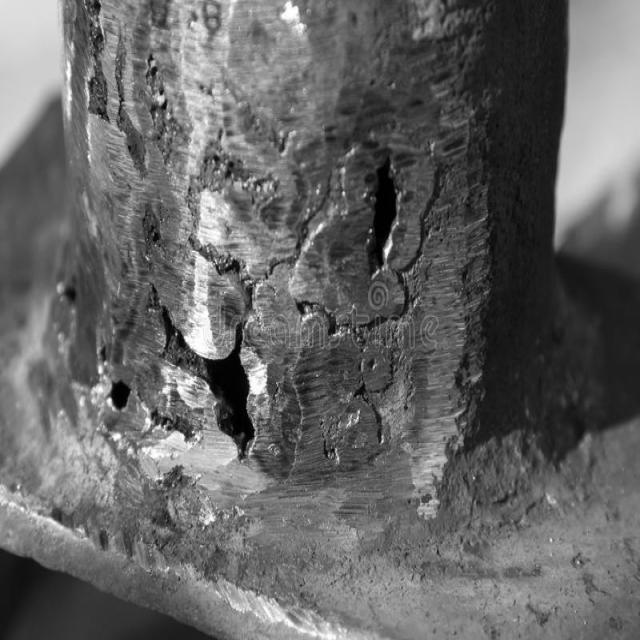Bad Welding: (58, 0, 432, 514)
